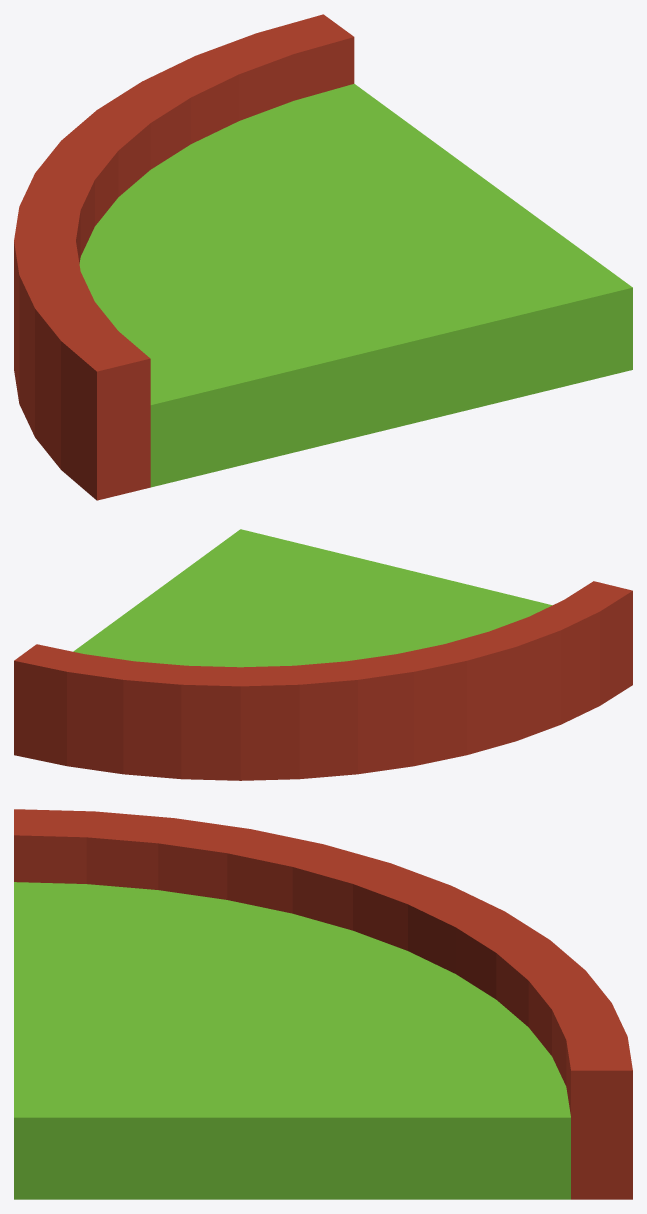
Rendered from Corner_Round_Open.FBX.
3 views of the same model, one above another, from view 1: azimuth 30°, elevation 25°; view 2: azimuth 150°, elevation 25°; view 3: azimuth 270°, elevation 25° (orthographic). The views are drawn at different scales.
Visible parts, largest first — view 1: Round_corner_3_01, Walls; view 2: Walls, Round_corner_3_01; view 3: Round_corner_3_01, Walls.
Part boxes in pixels (x1=…): Round_corner_3_01: x1=79, y1=83, x2=632, y2=487; Walls: x1=14, y1=14, x2=354, y2=500; Walls: x1=14, y1=581, x2=632, y2=780; Round_corner_3_01: x1=73, y1=529, x2=552, y2=667; Round_corner_3_01: x1=14, y1=882, x2=570, y2=1199; Walls: x1=14, y1=809, x2=632, y2=1199.
Bounding box in the file's own units: 0.9999 × 0.9999 × 0.23.
